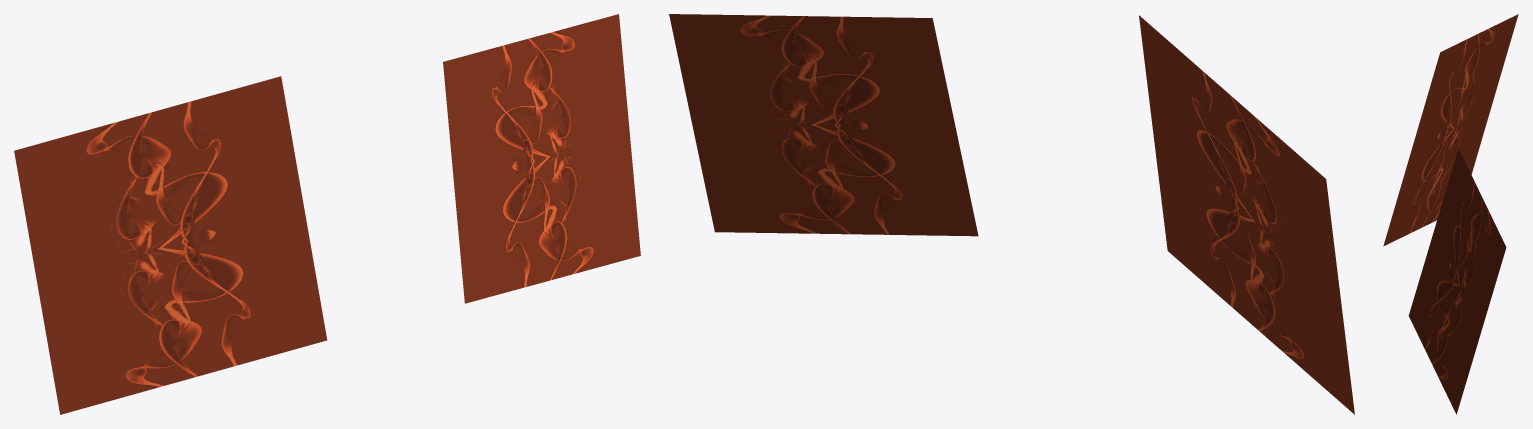
The model's file is effect_1.FBX.
The picture shows the model from 3 angles, left to right: view 1: azimuth 30°, elevation 25°; view 2: azimuth 150°, elevation 25°; view 3: azimuth 270°, elevation 25°; orthographic projection. The views are drawn at different scales.
Visible parts, largest first — view 1: effect_1; view 2: effect_1; view 3: effect_1.
Boxes of the visible parts, <box> form: effect_1: <box>14,14,640,414</box>; effect_1: <box>669,14,1354,414</box>; effect_1: <box>1383,14,1518,414</box>.
Bounding box in the file's own units: 0.5134 × 0.2449 × 0.1273.
